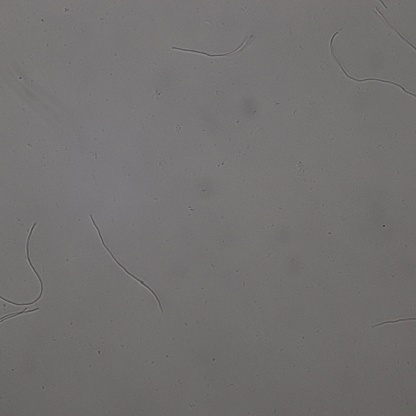Sensitive: (90, 215, 164, 314), (329, 32, 416, 99), (1, 223, 44, 306), (374, 10, 416, 55), (172, 34, 251, 57), (1, 308, 41, 324), (374, 316, 416, 327)
